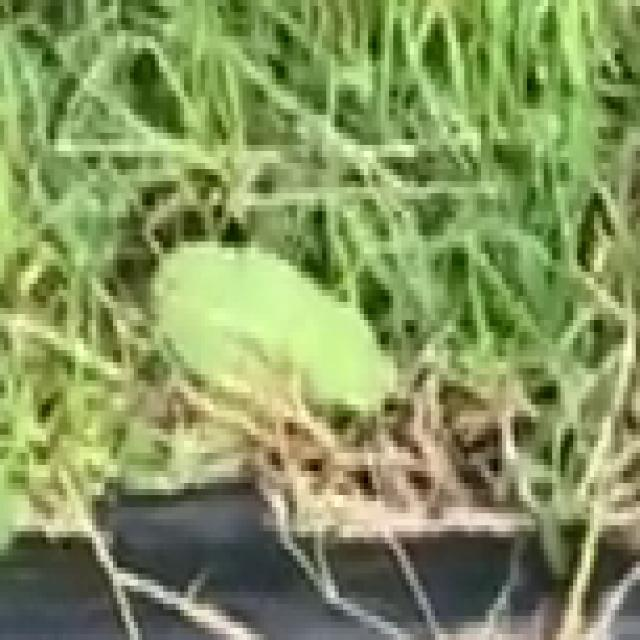organic waste: (117, 169, 402, 495)
